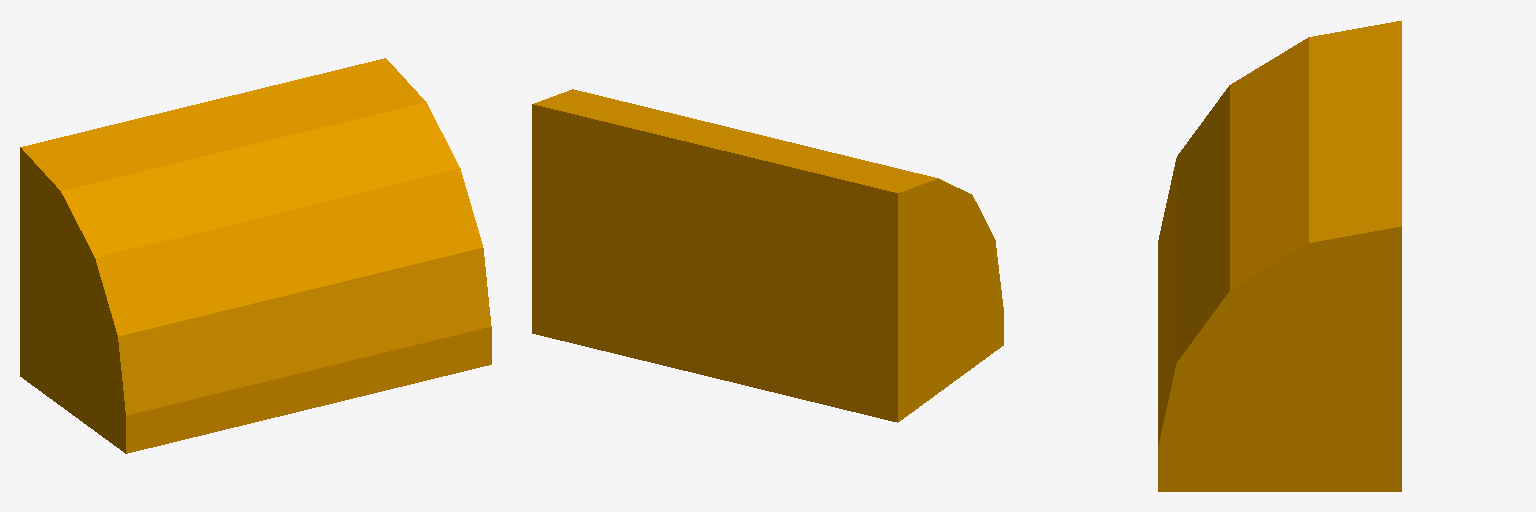
The robot description file, URDF, robot "1X2X1-CURVED.urdf":
<?xml version="1.0" ?>
<!-- This file was generated from obj_file/1X2X1-CURVED.obj. -->
<robot name="1X2X1-CURVED.urdf">


  <link name="1X2X1-CURVED.obj">
    <visual>
      <origin xyz="0 0 0"/>
      <geometry>
        <mesh filename="../origin_obj/1X2X1-CURVED/1X2X1-CURVED.obj" scale="0.0015 0.0015 0.0015"/>
      </geometry>
    </visual>
    <collision>
      <origin xyz="0 0 0"/>
      <geometry>
        <mesh filename="../origin_obj/1X2X1-CURVED/1X2X1-CURVED.obj" scale="0.0015 0.0015 0.0015"/>
      </geometry>
    </collision>
    <inertial>
      <density value="567.0"/>
    </inertial>
  </link>

</robot>

--- Render facts (derived) ---
Views: 3 orthographic renders of the robot side by side, from view 1: azimuth 30°, elevation 25°; view 2: azimuth 150°, elevation 25°; view 3: azimuth 270°, elevation 25°.
Robot: 1X2X1-CURVED.urdf — 1 links, 0 joints (none); root link 1X2X1-CURVED.obj; default pose: all joints at 0.
Visible links, largest first — view 1: 1X2X1-CURVED.obj; view 2: 1X2X1-CURVED.obj; view 3: 1X2X1-CURVED.obj.
Boxes of the visible links, x1=… form: 1X2X1-CURVED.obj: x1=20, y1=58, x2=491, y2=453; 1X2X1-CURVED.obj: x1=532, y1=89, x2=1003, y2=422; 1X2X1-CURVED.obj: x1=1158, y1=21, x2=1401, y2=491.
Bounding box of the posed robot: 0.06 × 0.03 × 0.036 m (x, y, z).
Meshes: 1 distinct files referenced, 1 mesh visuals loaded (1 OBJ).